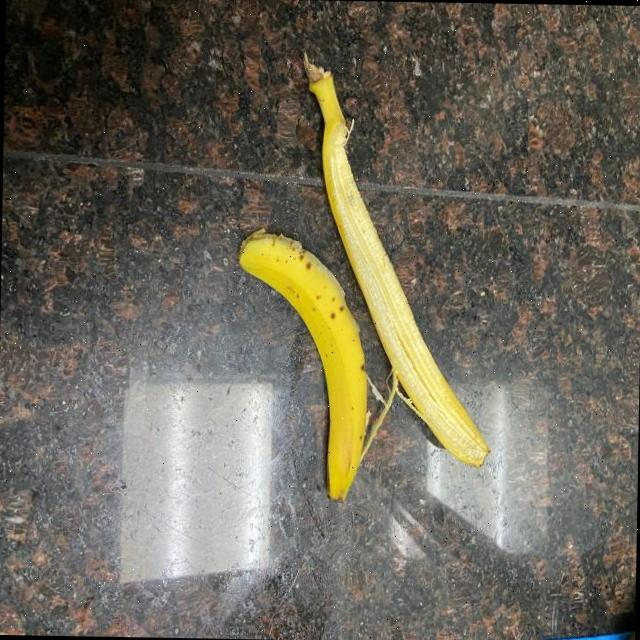banana-peel: (293, 51, 497, 468), (232, 225, 371, 502)
